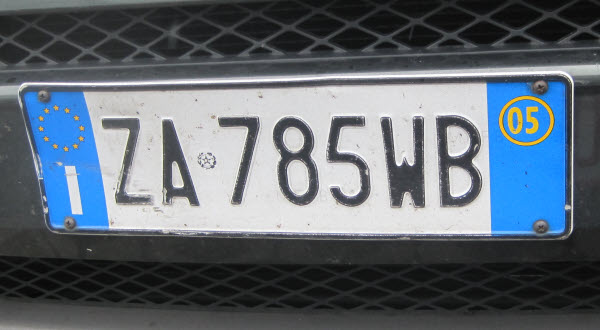license_plate: (14, 69, 576, 240)
